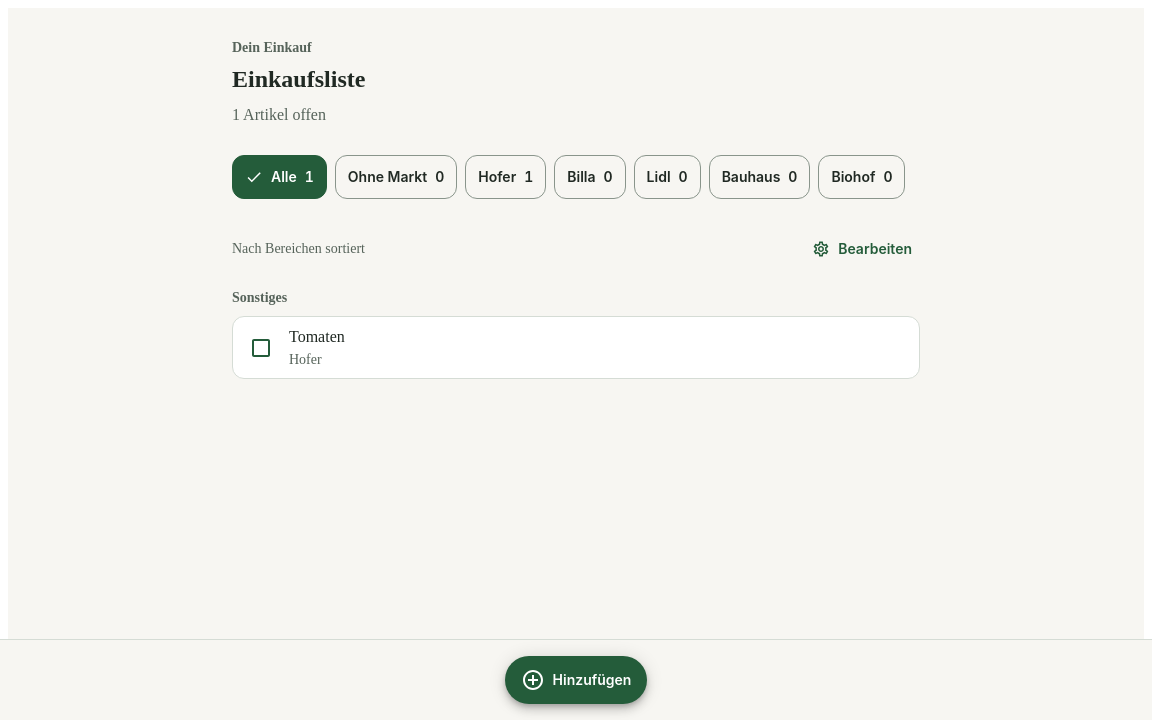
it: does not remove a failed market assignment or announce movement
Click the button with id "market-filter-hofer" at (506, 177), box [465, 155, 546, 199]
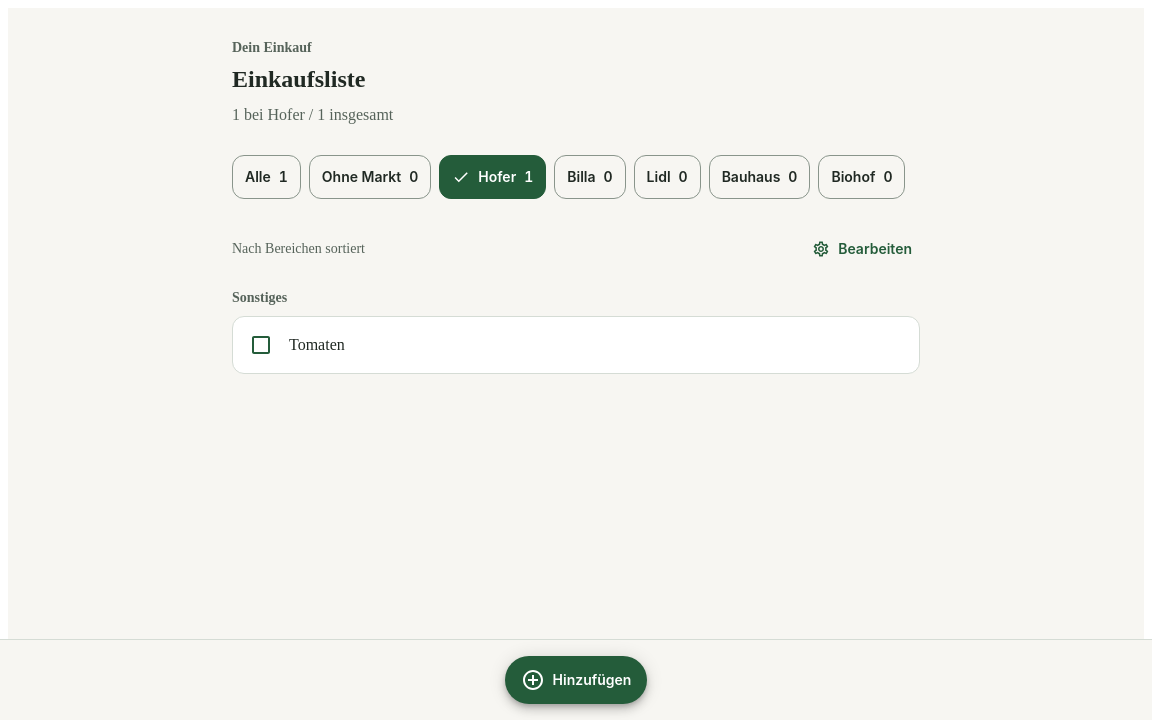
Click the button "Bearbeiten" at (862, 249), box [804, 227, 920, 271]
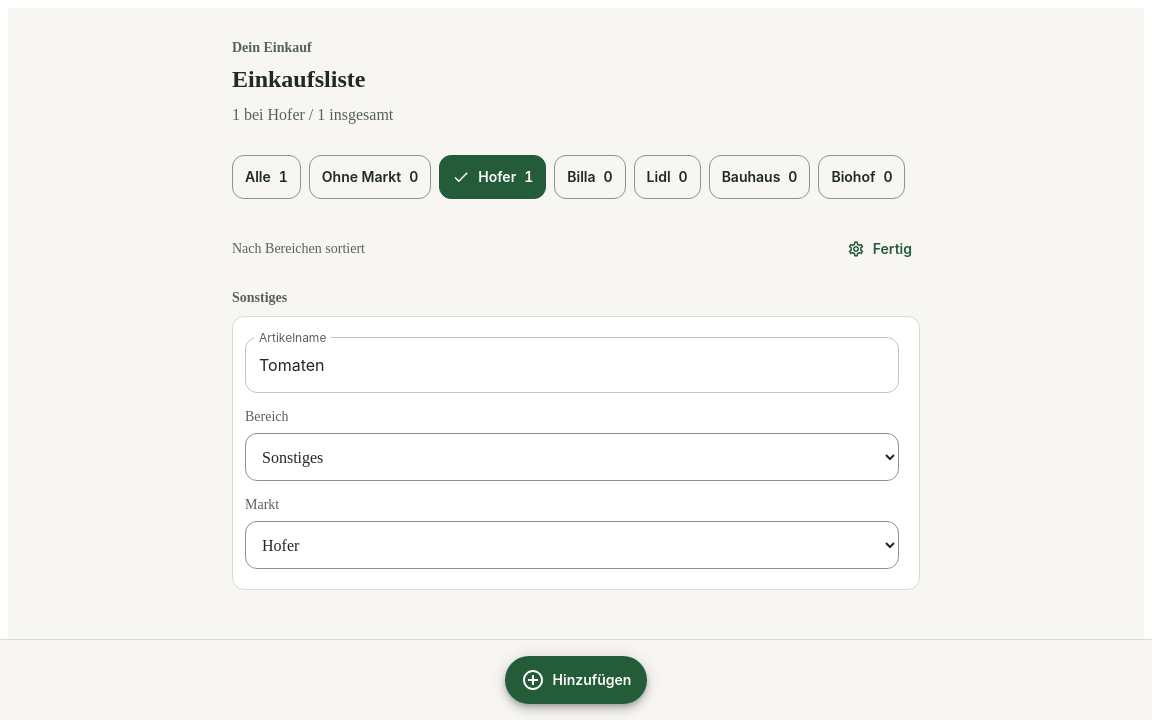
Select "Billa" in the dropdown with id "grocery-market-tomato" at (572, 545), box [245, 521, 899, 569]
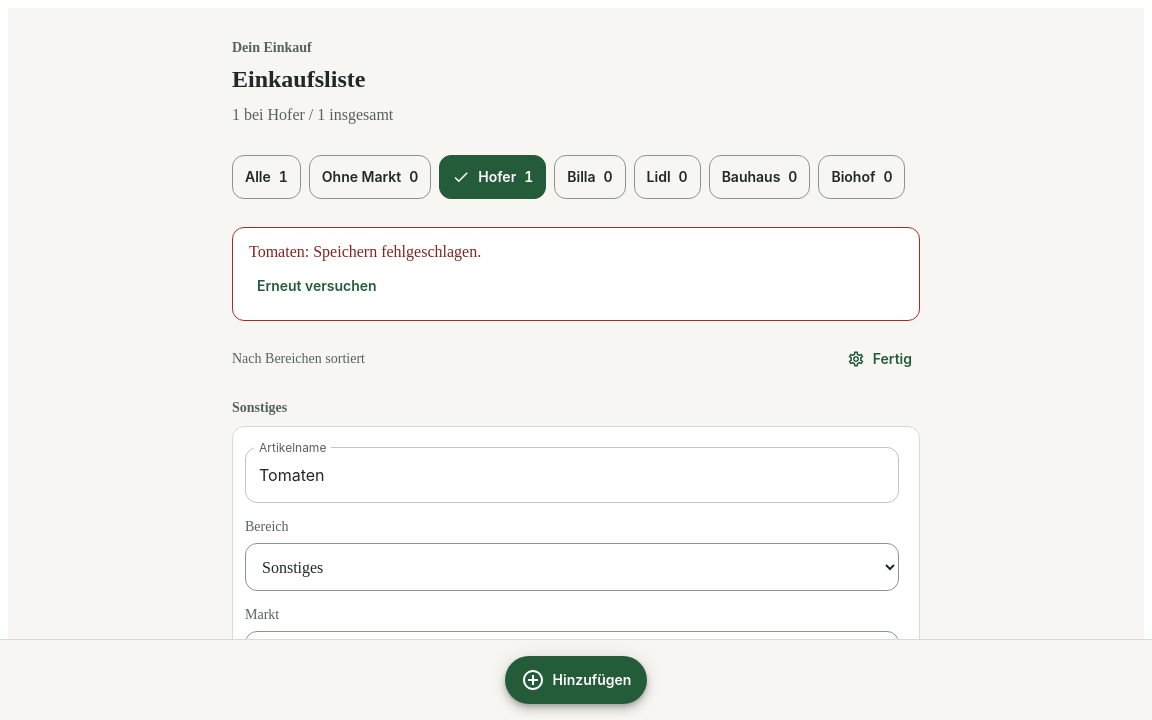
Now the message "Tomaten: Speichern fehlgeschlagen. Erneut versuchen" is shown, box [232, 227, 920, 321]
